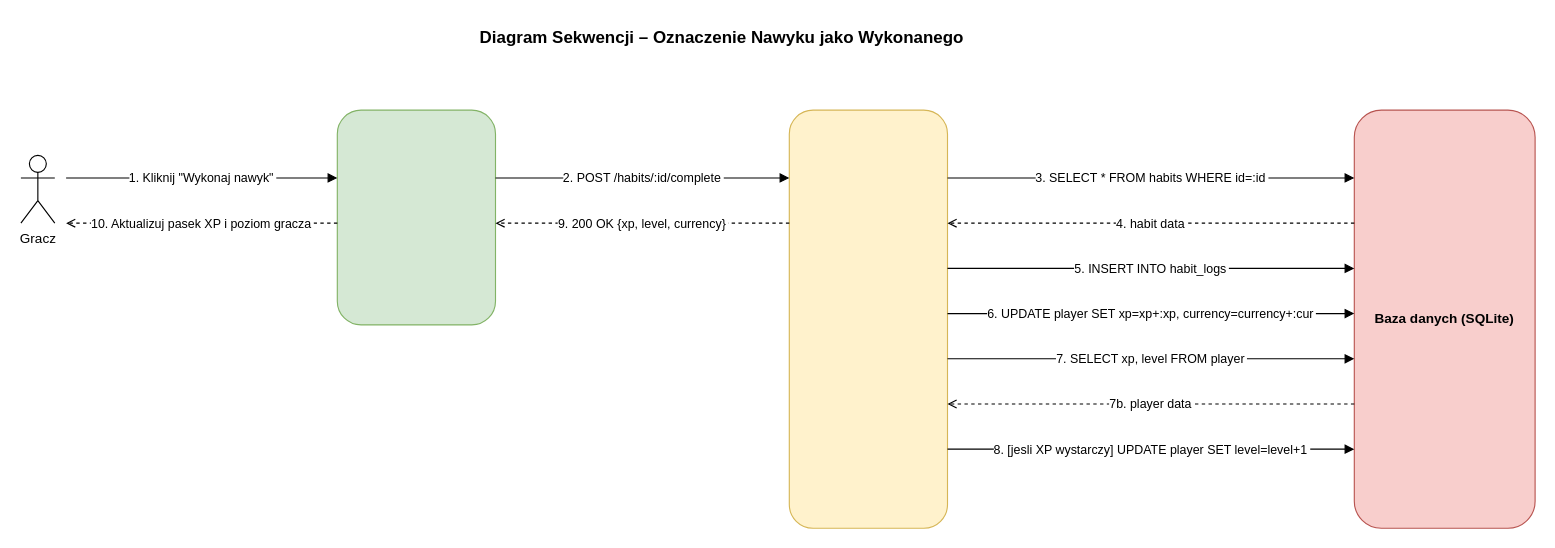
Some shapes in this 1555 by 548 pixel diagram are drawn without their labels. The box of each missing label's shape, as (x1, y1, x2, y2) in pixels:
Backend (Express): (788, 109, 948, 528)
Frontend (React): (336, 109, 496, 325)
